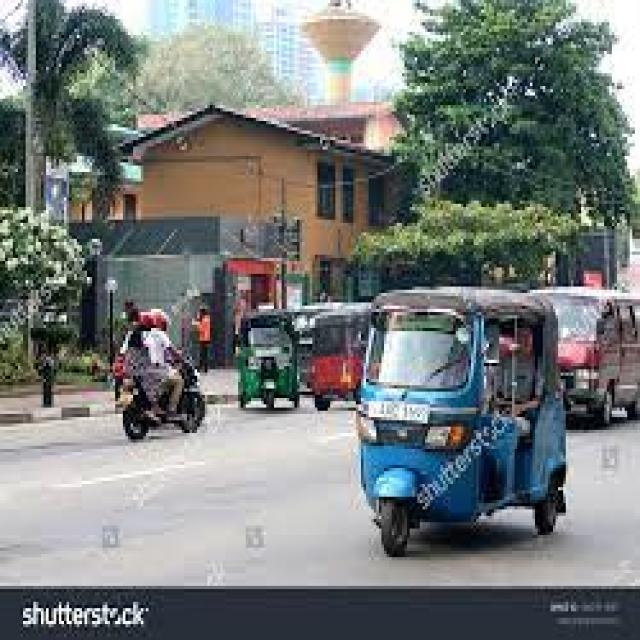motorcycle: (123, 363, 202, 439)
person: (138, 309, 182, 414), (120, 309, 166, 404), (200, 309, 207, 373)
three wheeler: (356, 287, 563, 554), (300, 302, 366, 411), (241, 312, 297, 408)
van: (538, 287, 637, 427)
